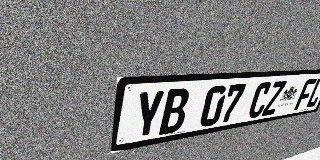0: (198, 85, 228, 128)
7: (218, 84, 246, 124)
B: (159, 88, 191, 135)
C: (246, 82, 273, 119)
F: (294, 78, 317, 110)
L: (305, 78, 320, 108)
Y: (132, 90, 165, 140)
Z: (261, 81, 287, 116)
